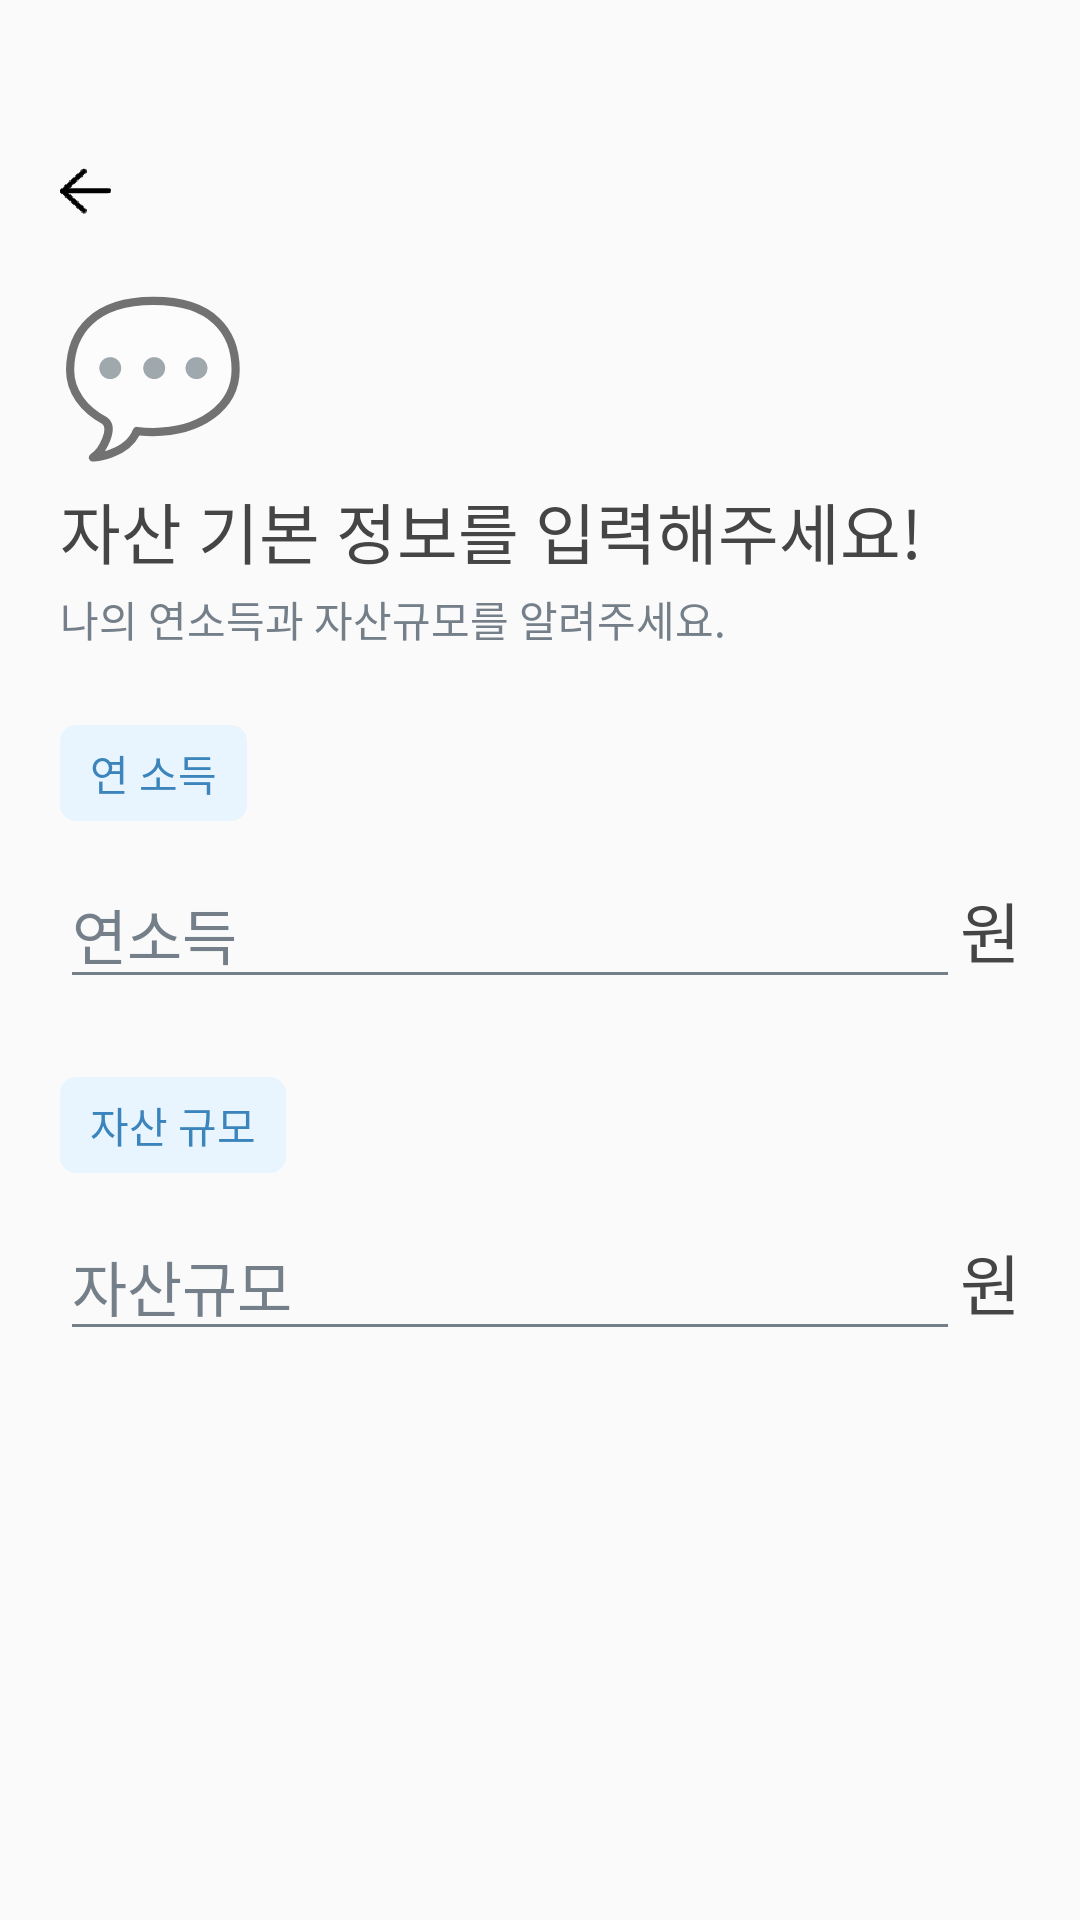

Icons on this 1080 x 1920 Android screen, each with the point to tap as (x=x, y=y):
before: (x=85, y=191)
